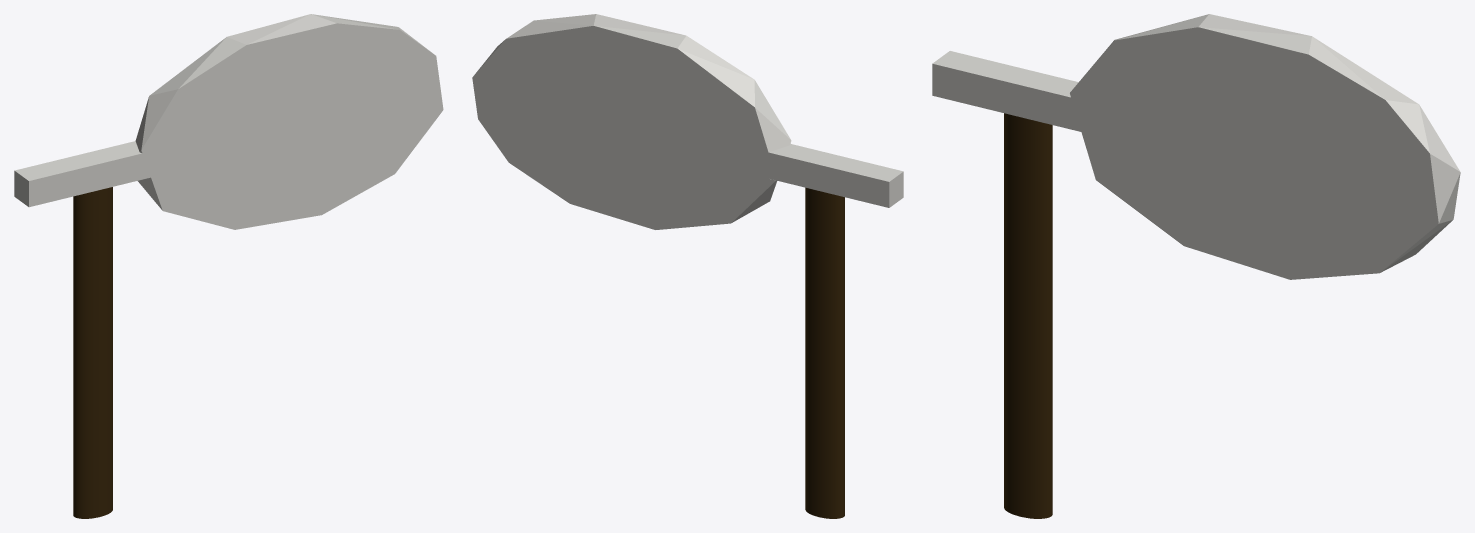
The model's file is piano_hammer .fbx.
The picture shows the model from 3 angles, left to right: view 1: azimuth 30°, elevation 25°; view 2: azimuth 150°, elevation 25°; view 3: azimuth 330°, elevation 25°; orthographic projection. The views are drawn at different scales.
Visible parts, largest first — view 1: head, tail; view 2: head, tail; view 3: head, tail.
Part boxes in pixels (x1,y1,x2,y2): head: (14, 14, 443, 229); tail: (73, 187, 112, 518); head: (472, 14, 903, 229); tail: (805, 187, 844, 518); head: (932, 14, 1460, 279); tail: (1004, 113, 1052, 518).
Size of the model in its own units: 134 by 134 by 8.
